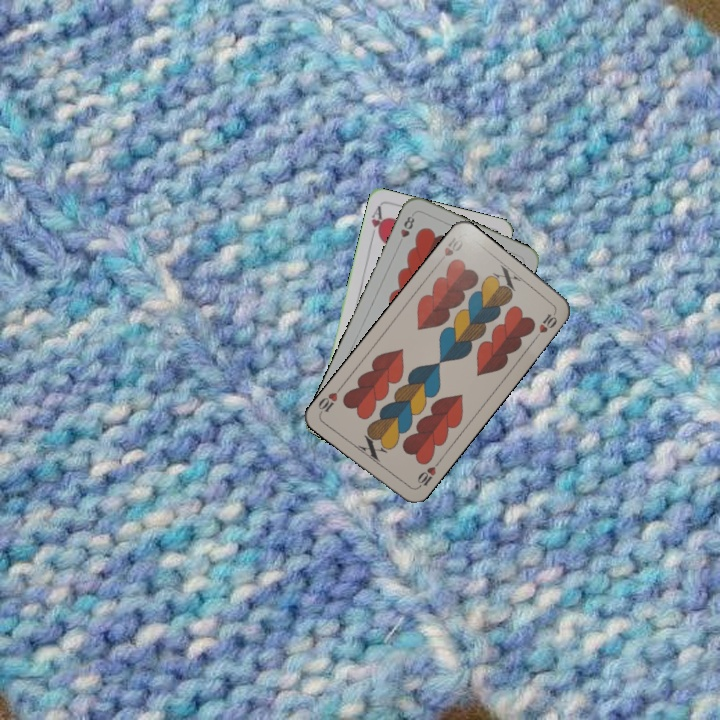H10: (434, 232, 465, 267), (412, 457, 442, 492)
H8: (394, 212, 417, 248)
HA: (367, 202, 387, 243)
